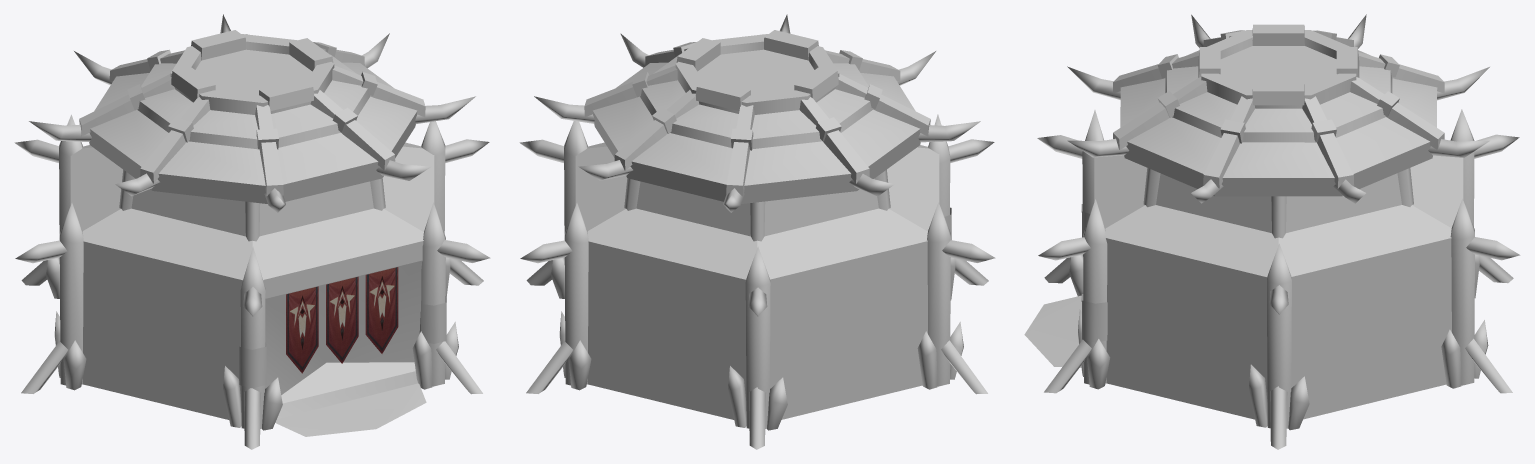
Rendered from SV_BUD_snow_zhangpeng3_0.FBX.
3 views of the same model, side by side, from view 1: azimuth 30°, elevation 25°; view 2: azimuth 150°, elevation 25°; view 3: azimuth 270°, elevation 25° (orthographic).
Visible parts, largest first — view 1: SV_BUD_snow_zhangpeng3_0, SV_BUD_snow_zhangpeng3_0_ding, SV_BUD_snow_zhangpeng3_0_qizi; view 2: SV_BUD_snow_zhangpeng3_0, SV_BUD_snow_zhangpeng3_0_ding; view 3: SV_BUD_snow_zhangpeng3_0, SV_BUD_snow_zhangpeng3_0_ding.
Boxes of the visible parts, <box> form: SV_BUD_snow_zhangpeng3_0: <box>70,142,446,436</box>; SV_BUD_snow_zhangpeng3_0_ding: <box>14,14,490,449</box>; SV_BUD_snow_zhangpeng3_0_qizi: <box>286,267,398,373</box>; SV_BUD_snow_zhangpeng3_0: <box>575,142,951,419</box>; SV_BUD_snow_zhangpeng3_0_ding: <box>519,14,995,449</box>; SV_BUD_snow_zhangpeng3_0: <box>1024,155,1463,419</box>; SV_BUD_snow_zhangpeng3_0_ding: <box>1037,14,1520,449</box>.
Size of the model in its own units: 11.85 by 6.51 by 10.55.
